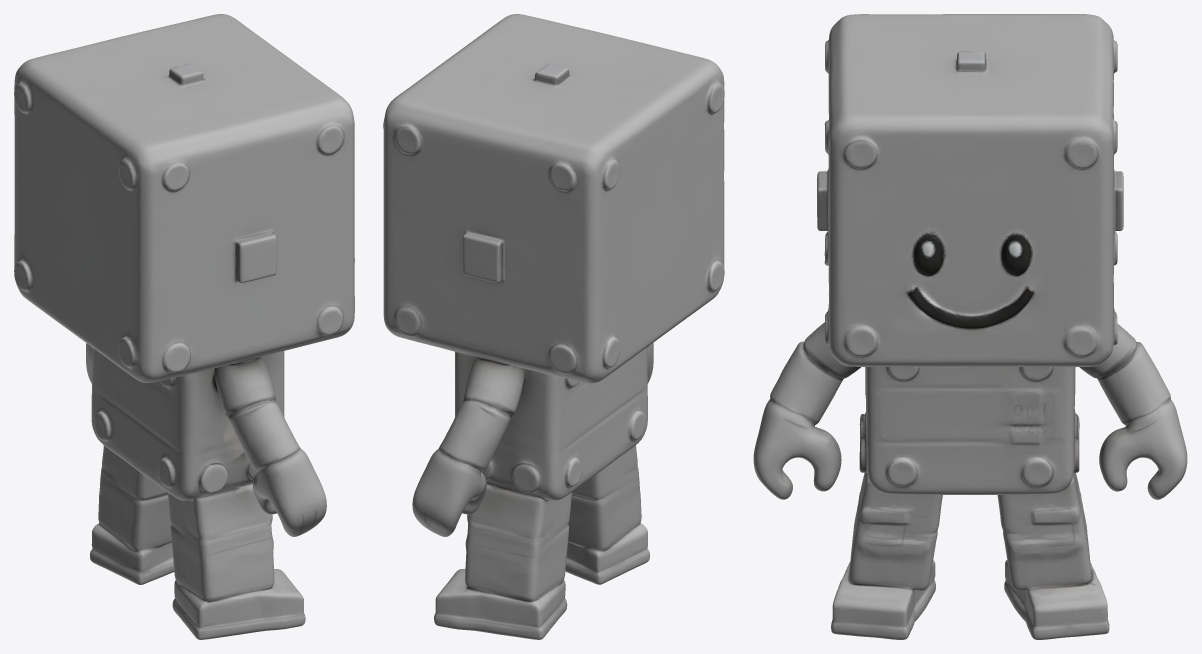
Rendered from character.glb.
3 views of the same model, side by side, from view 1: azimuth 30°, elevation 25°; view 2: azimuth 150°, elevation 25°; view 3: azimuth 270°, elevation 25° (orthographic). The views are drawn at different scales.
Visible parts, largest first — view 1: tripo_node_141e73af-2bf7-43fa-985d-3a55cce84eaf; view 2: tripo_node_141e73af-2bf7-43fa-985d-3a55cce84eaf; view 3: tripo_node_141e73af-2bf7-43fa-985d-3a55cce84eaf.
Boxes of the visible parts, x1,y1,x2,y2 form: tripo_node_141e73af-2bf7-43fa-985d-3a55cce84eaf: (14,14,354,639); tripo_node_141e73af-2bf7-43fa-985d-3a55cce84eaf: (383,14,724,639); tripo_node_141e73af-2bf7-43fa-985d-3a55cce84eaf: (753,14,1187,639).
Size of the model in its own units: 0.4386 by 0.9496 by 0.676.
1 material, 1 textured.
